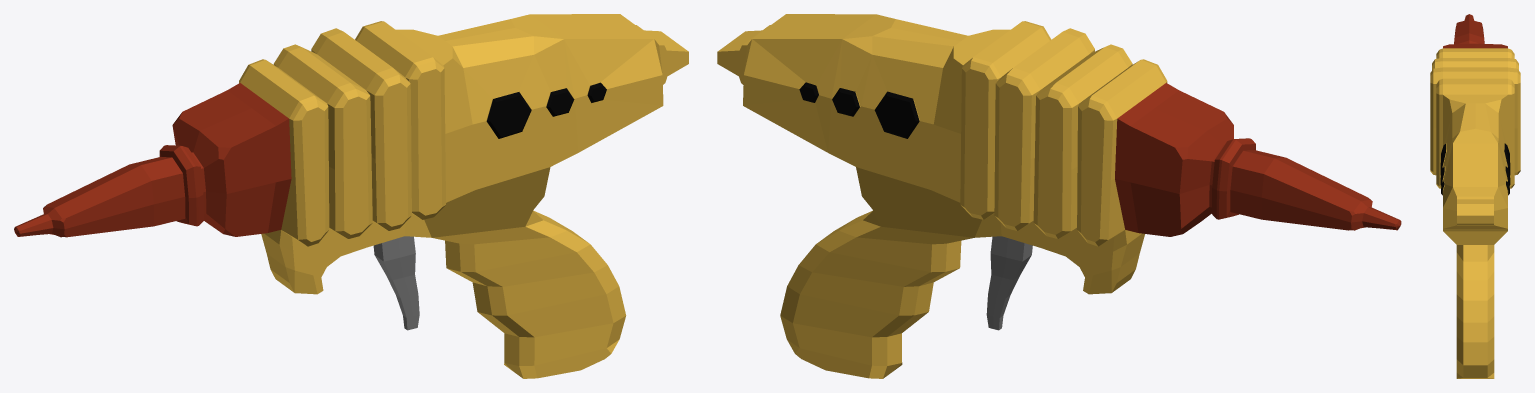
File: lasergun.fbx
3 renders of one model, left to right at view 1: azimuth 30°, elevation 25°; view 2: azimuth 150°, elevation 25°; view 3: azimuth 270°, elevation 25°, orthographic. The views are drawn at different scales.
Parts seen in each view (by area): view 1: Plane; view 2: Plane; view 3: Plane.
Part boxes in pixels (x1,y1,x2,y2): Plane: [14, 14, 688, 378]; Plane: [717, 14, 1401, 378]; Plane: [1430, 14, 1520, 378].
Size of the model in its own units: 5.07 by 2.65 by 0.8991.
